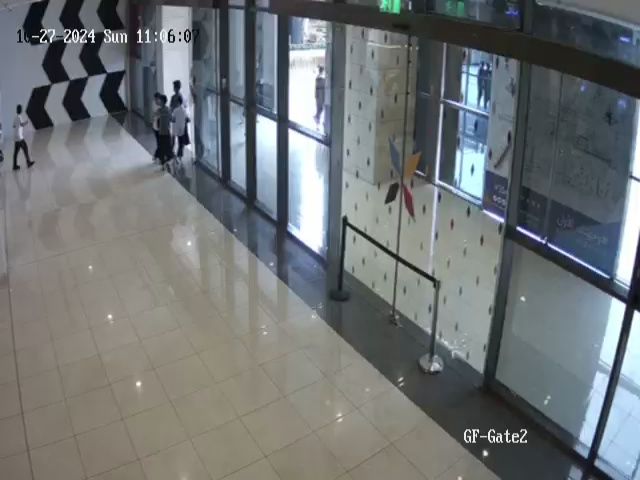male: (152, 93, 175, 172), (12, 104, 35, 171), (171, 97, 190, 162), (169, 80, 185, 112)
